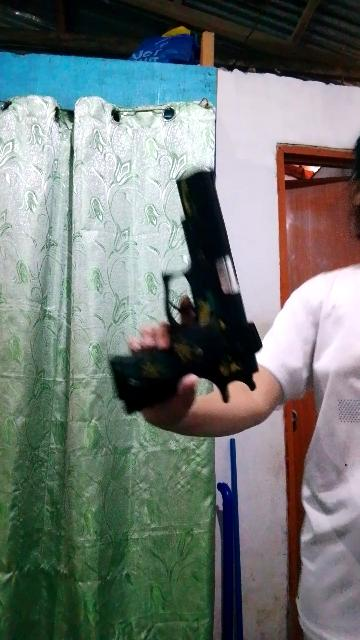pistol: (73, 170, 261, 412)
